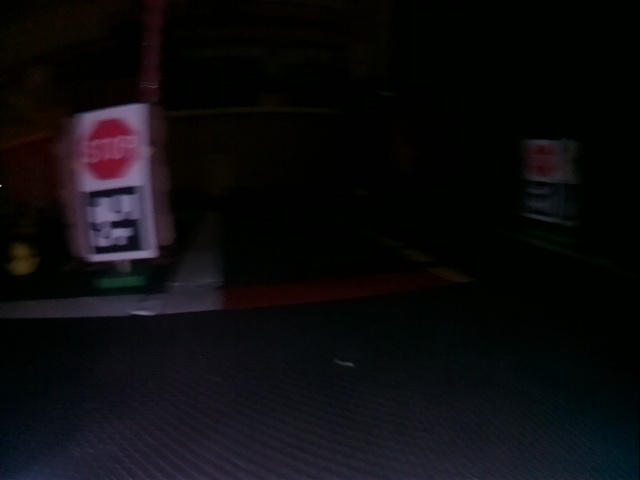Duckie: (7, 243, 41, 275)
QR code: (81, 185, 151, 257), (524, 181, 559, 221)
Stop sign: (80, 116, 144, 181), (522, 142, 556, 177)
